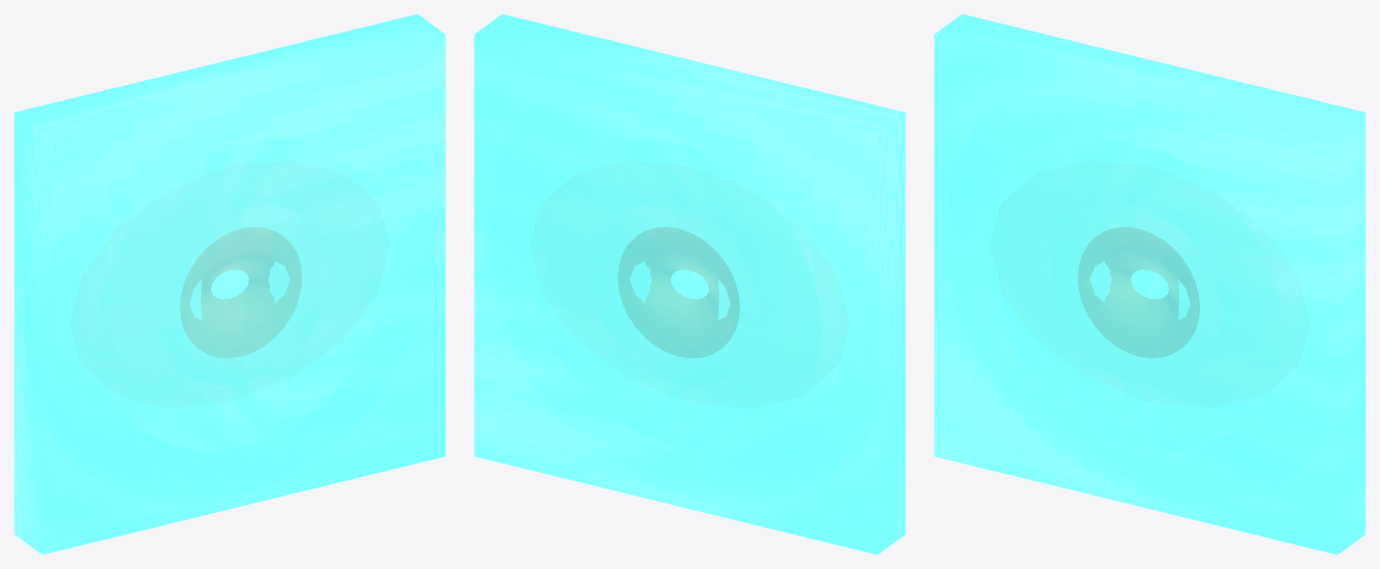
The model's file is DEV_ImpulseRing.glb.
The picture shows the model from 3 angles, left to right: view 1: azimuth 30°, elevation 25°; view 2: azimuth 150°, elevation 25°; view 3: azimuth 330°, elevation 25°; orthographic projection.
Visible parts, largest first — view 1: COL_DEV_ImpulseRing_Hull, VIS_DEV_ImpulseRing_LOD0, VIS_DEV_ImpulseRing_Core; view 2: COL_DEV_ImpulseRing_Hull, VIS_DEV_ImpulseRing_LOD0, VIS_DEV_ImpulseRing_Core; view 3: COL_DEV_ImpulseRing_Hull, VIS_DEV_ImpulseRing_LOD0, VIS_DEV_ImpulseRing_Core.
Boxes of the visible parts, x1,y1,x2,y2 form: COL_DEV_ImpulseRing_Hull: [14, 14, 445, 554]; VIS_DEV_ImpulseRing_LOD0: [24, 63, 432, 504]; VIS_DEV_ImpulseRing_Core: [180, 227, 301, 357]; COL_DEV_ImpulseRing_Hull: [474, 14, 905, 554]; VIS_DEV_ImpulseRing_LOD0: [487, 63, 895, 504]; VIS_DEV_ImpulseRing_Core: [618, 227, 739, 357]; COL_DEV_ImpulseRing_Hull: [934, 14, 1365, 554]; VIS_DEV_ImpulseRing_LOD0: [947, 63, 1355, 504]; VIS_DEV_ImpulseRing_Core: [1078, 227, 1199, 357].
Size of what is drawn, in the model's own units: 2.5 by 2.5 by 0.3.
2 materials, 2 textured.
